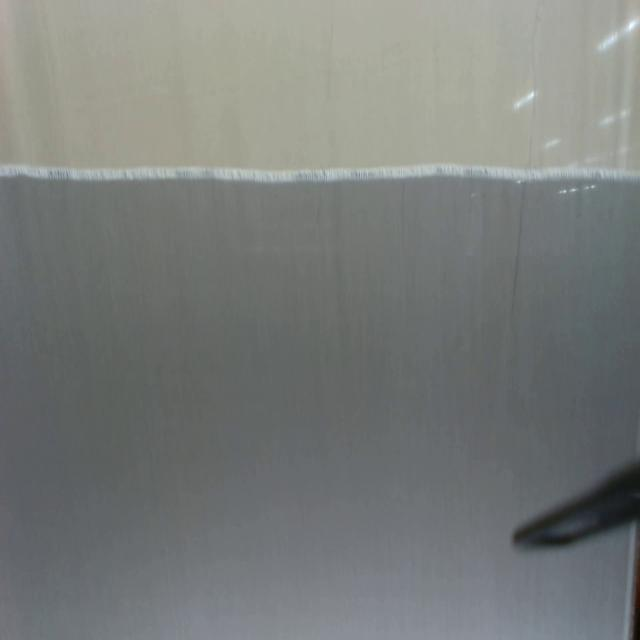crease: (502, 136, 535, 322)
